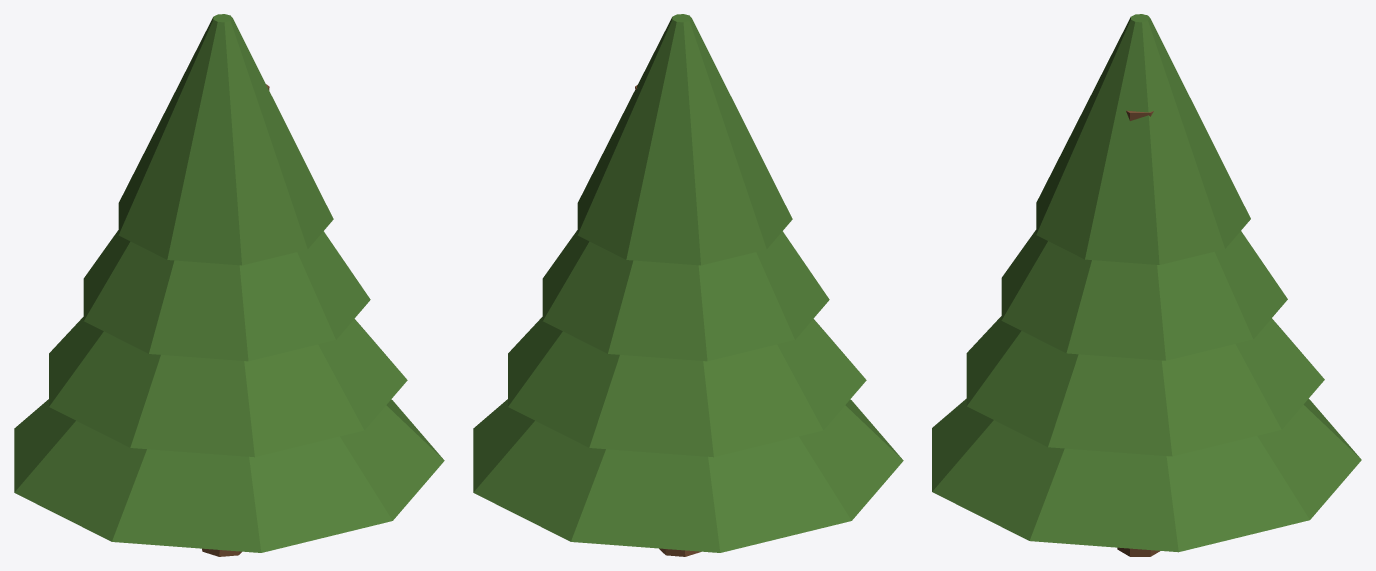
File: tree_03.glb
The picture shows the model from 3 angles, left to right: view 1: azimuth 30°, elevation 25°; view 2: azimuth 150°, elevation 25°; view 3: azimuth 270°, elevation 25°; orthographic projection.
Visible parts, largest first — view 1: tree_03; view 2: tree_03; view 3: tree_03.
Part boxes in pixels (box(x1,y1,x2,y2)): tree_03: box(14, 14, 444, 556); tree_03: box(473, 14, 903, 556); tree_03: box(932, 14, 1361, 556).
Bounding box in the file's own units: 1.3 × 1.74 × 1.28.
